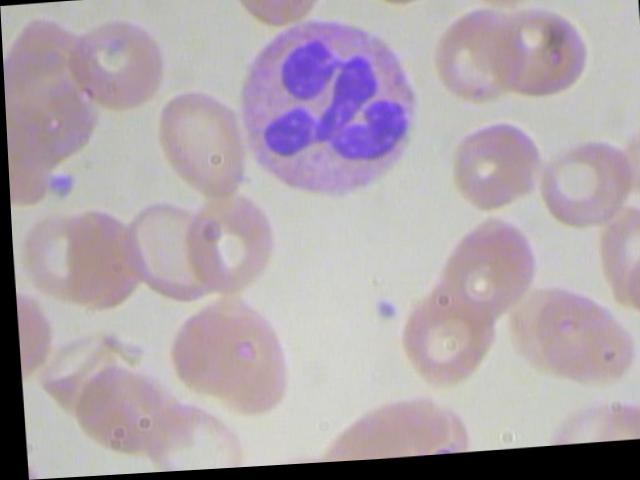Platelets: (42, 167, 80, 206), (365, 298, 398, 332)
Red Blood Cells: (144, 85, 251, 209), (71, 355, 188, 468), (391, 276, 505, 391), (427, 218, 540, 333), (180, 183, 279, 299), (428, 4, 529, 113), (444, 115, 545, 224), (68, 6, 169, 114), (487, 0, 588, 108), (532, 127, 633, 235), (527, 293, 634, 392), (54, 204, 151, 312)
White Blood Cells: (219, 15, 424, 216)
